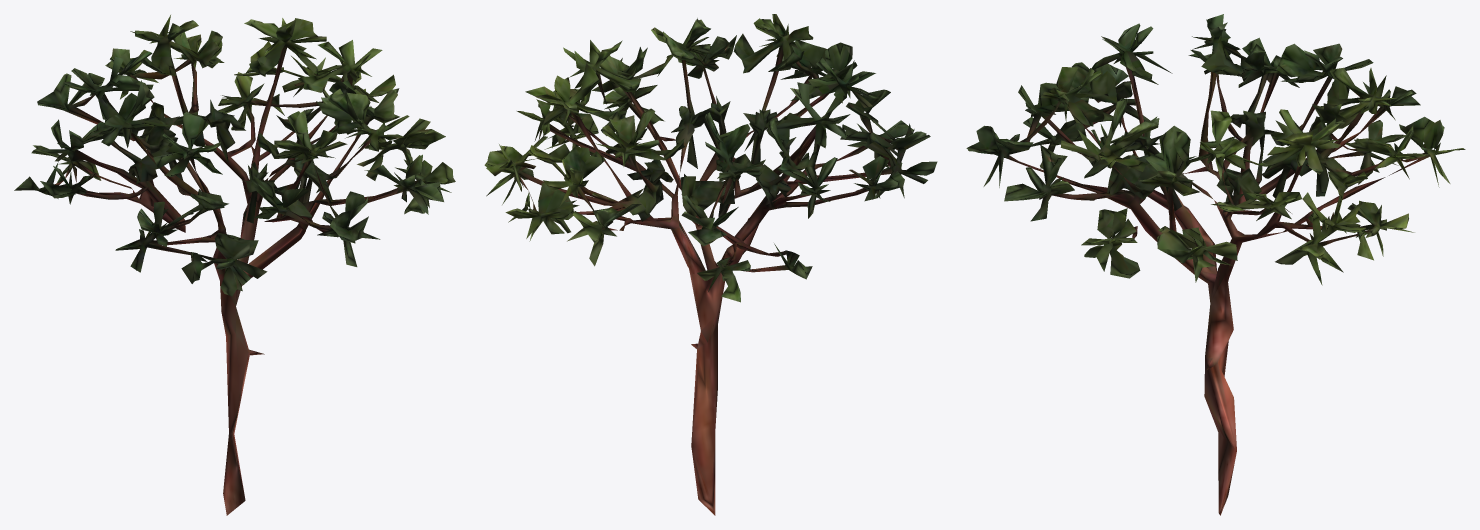
The model's file is baum_pinie.glb.
The picture shows the model from 3 angles, left to right: view 1: azimuth 30°, elevation 25°; view 2: azimuth 150°, elevation 25°; view 3: azimuth 270°, elevation 25°; orthographic projection.
Visible parts, largest first — view 1: tripo_node_cc58731d-e1f2-4a3e-bdb0-5b063764bafa; view 2: tripo_node_cc58731d-e1f2-4a3e-bdb0-5b063764bafa; view 3: tripo_node_cc58731d-e1f2-4a3e-bdb0-5b063764bafa.
Boxes of the visible parts, x1=… form: tripo_node_cc58731d-e1f2-4a3e-bdb0-5b063764bafa: x1=14, y1=15, x2=455, y2=515; tripo_node_cc58731d-e1f2-4a3e-bdb0-5b063764bafa: x1=484, y1=14, x2=937, y2=515; tripo_node_cc58731d-e1f2-4a3e-bdb0-5b063764bafa: x1=966, y1=14, x2=1465, y2=515.
Bounding box in the file's own units: 0.8476 × 0.9954 × 0.9777.
Materials: 1 (1 with a texture image).
